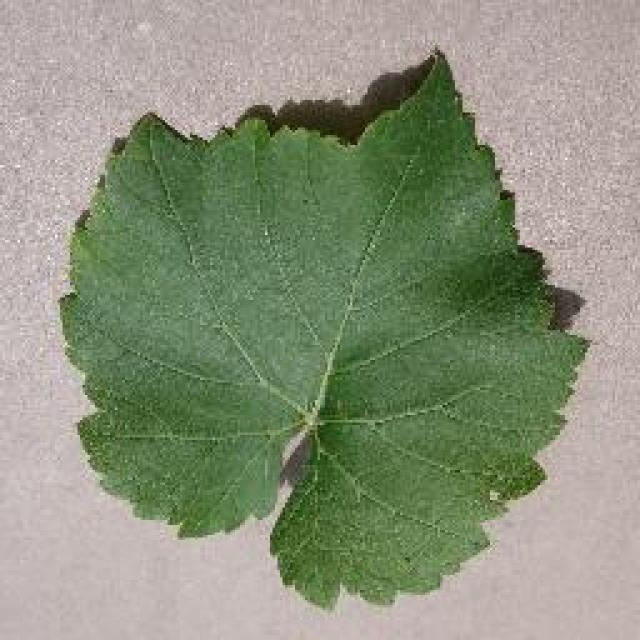Grape___healthy: (65, 60, 582, 602)
